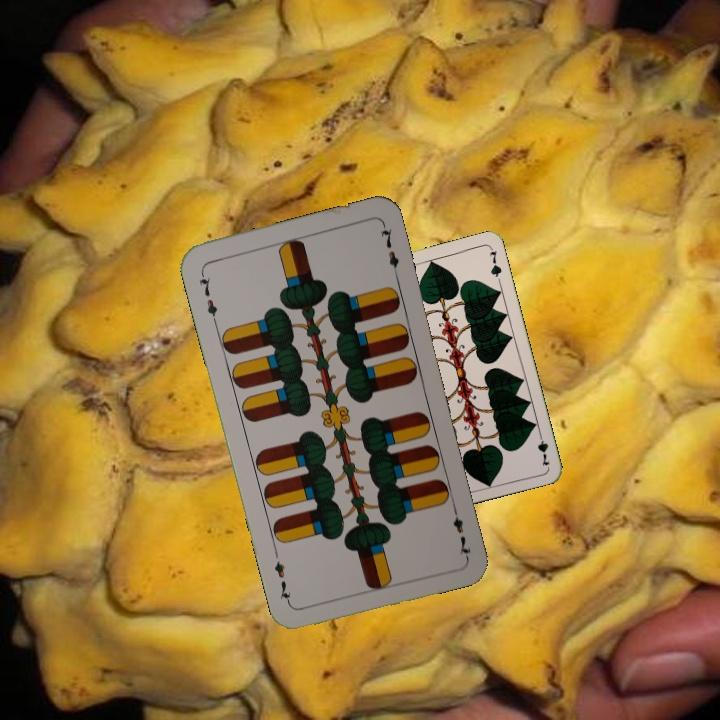E7: (195, 267, 220, 326), (449, 501, 474, 559)
G7: (534, 428, 553, 468)
